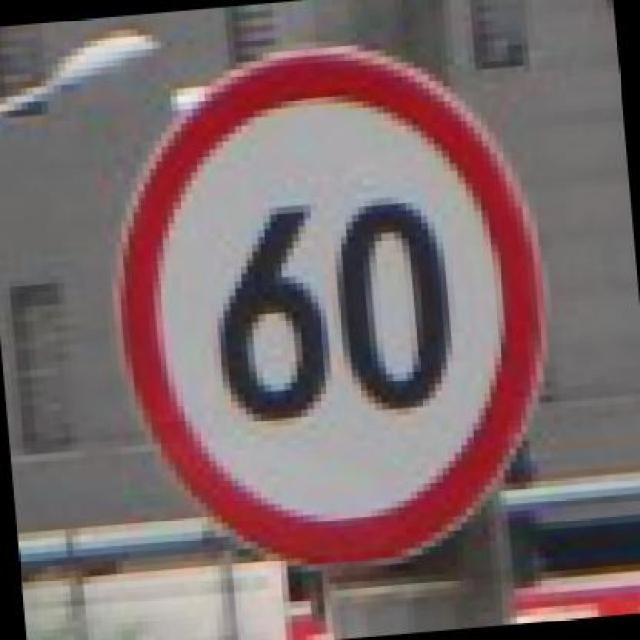Limite-60: (109, 44, 550, 571)
